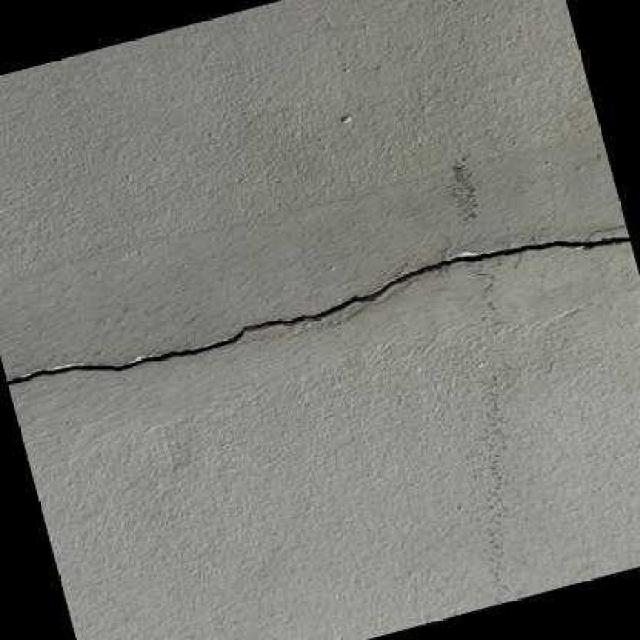D00: (4, 223, 630, 385)
